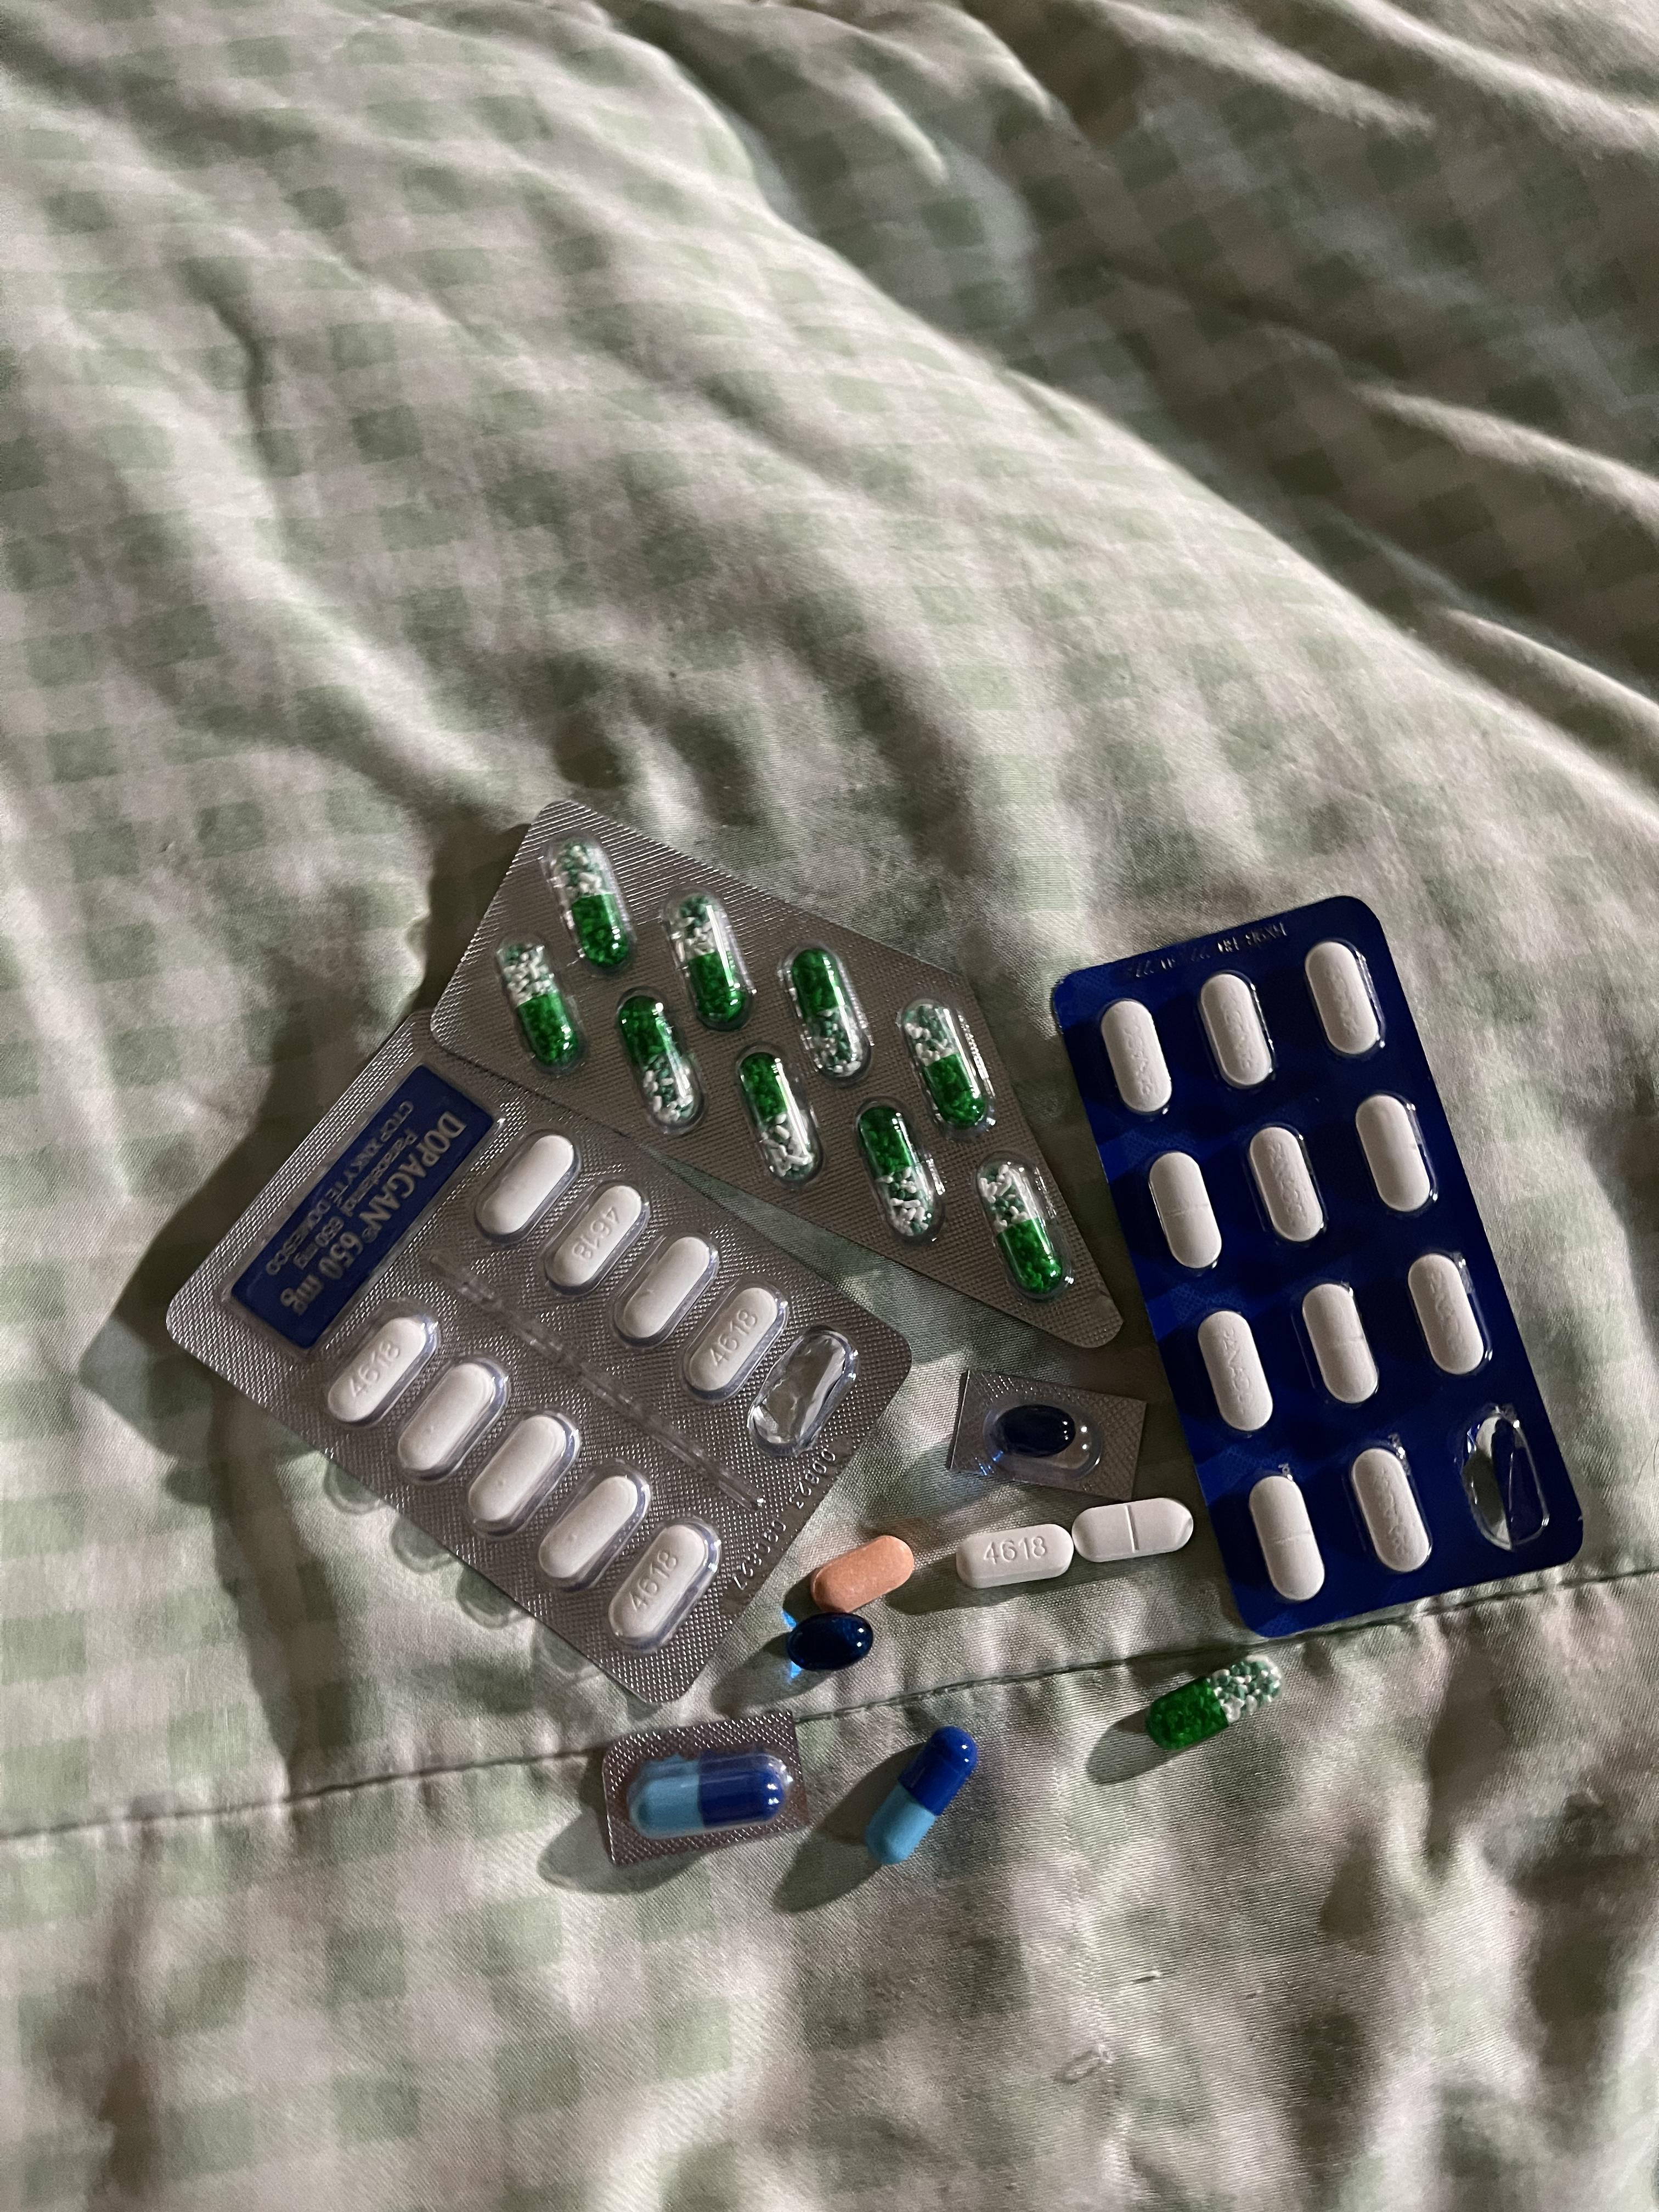Lincomyxin_500mg: (784, 1611, 875, 1672), (999, 1404, 1077, 1458)
Loratadine_10mg: (810, 1536, 918, 1615)
Paracetamol_350mg: (1349, 1446, 1434, 1576), (1249, 1472, 1324, 1604), (1408, 1252, 1488, 1376), (1300, 1284, 1378, 1407), (1356, 1094, 1434, 1216), (1246, 1127, 1324, 1245), (1197, 1312, 1272, 1432), (1199, 974, 1276, 1089), (1305, 942, 1382, 1057), (1073, 1494, 1194, 1568), (1148, 1151, 1218, 1270), (1100, 1001, 1168, 1113)
Paracetamol_500mg: (606, 1515, 723, 1651), (465, 1407, 580, 1540), (396, 1355, 511, 1486), (538, 1467, 652, 1594), (326, 1313, 437, 1428), (680, 1280, 788, 1399), (612, 1231, 718, 1343), (542, 1176, 647, 1289), (476, 1137, 579, 1242), (955, 1522, 1070, 1588)
Paracetamol_650mg: (978, 1157, 1070, 1296), (662, 890, 753, 1029), (1150, 1653, 1276, 1750), (545, 838, 638, 970), (899, 996, 990, 1129), (856, 1101, 941, 1240), (734, 1050, 821, 1186), (615, 993, 701, 1127), (498, 942, 586, 1073), (789, 948, 868, 1080)
pill: (864, 1724, 978, 1865), (631, 1750, 795, 1838)
